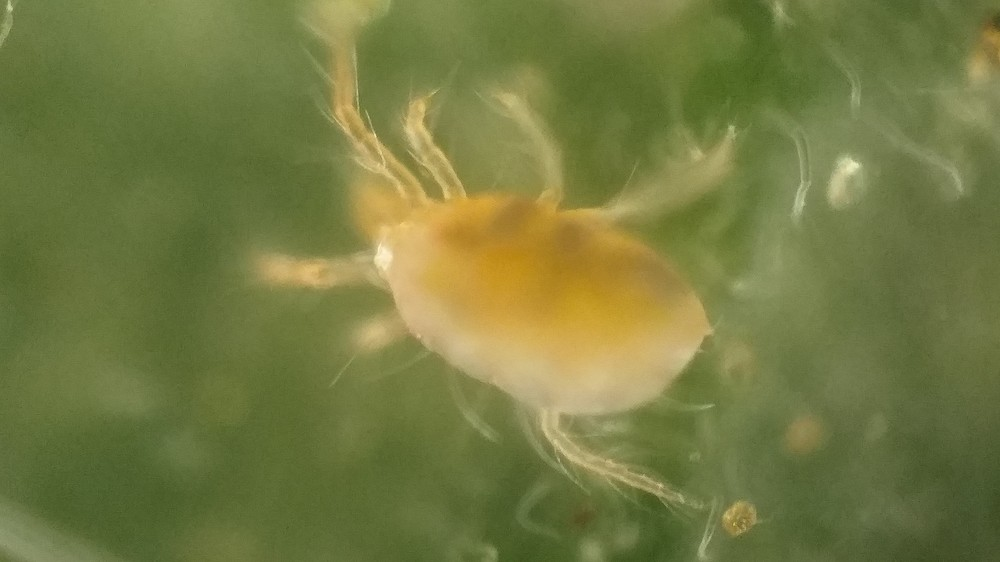Aracnido Rojo: (271, 52, 755, 517)
